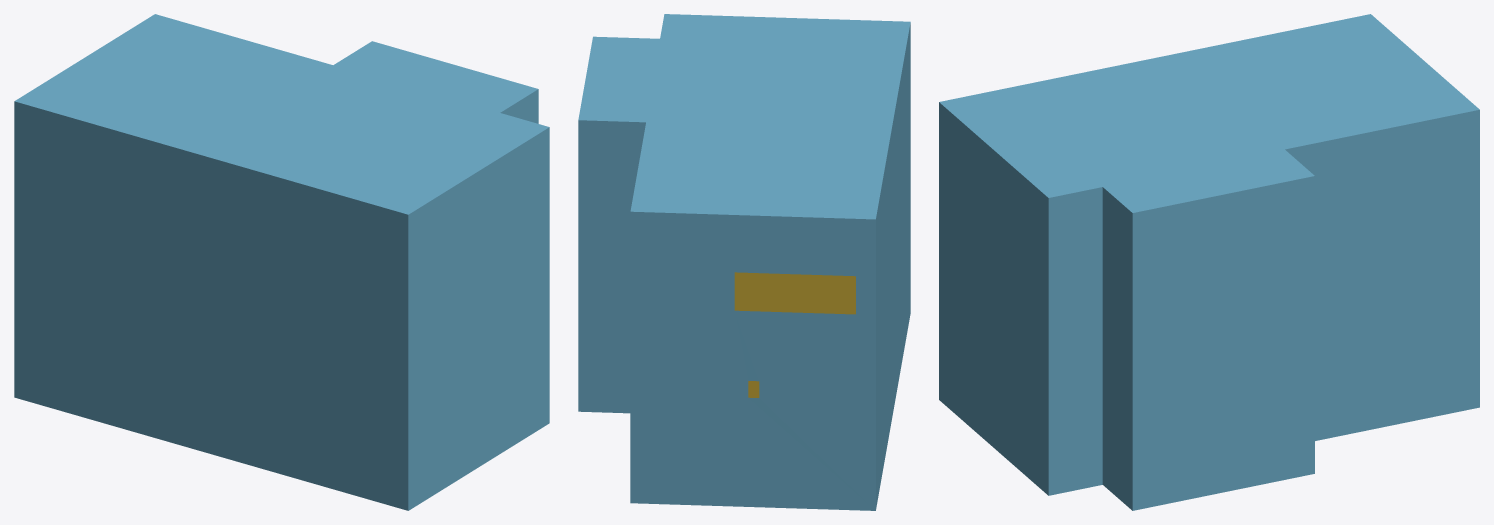
Rendered from bldg_bd8abcdb-a9dd-4288-93a8-3d6ee58e1e68.obj.
3 renders of one model, left to right at view 1: azimuth 30°, elevation 25°; view 2: azimuth 150°, elevation 25°; view 3: azimuth 270°, elevation 25°, orthographic. The views are drawn at different scales.
Bounding box in the file's own units: 12.39 × 8.65 × 14.23.
